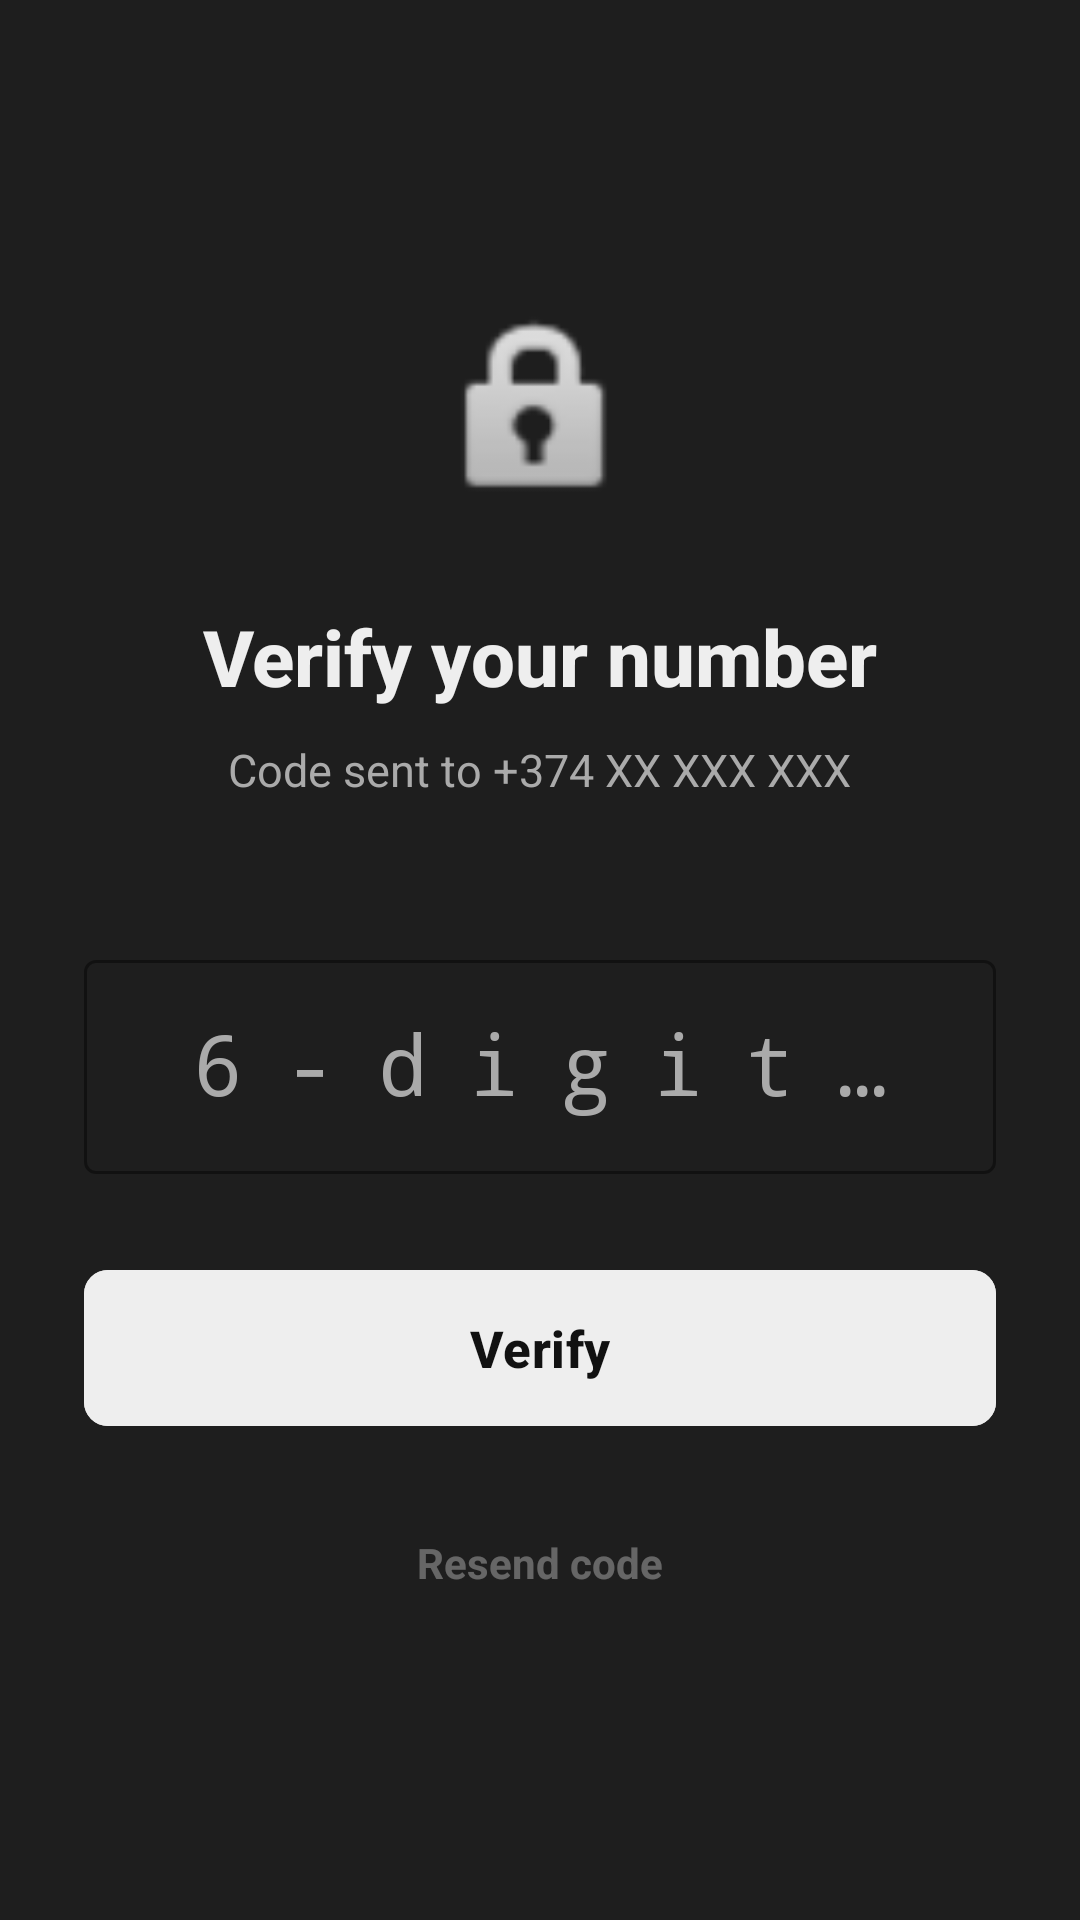

Screen size 1080px×1920px. Icon name, then its box in pixels as (left=x1, top=y1, right=x2, bottom=y2):
lock idle: (left=464, top=322, right=605, bottom=488)
